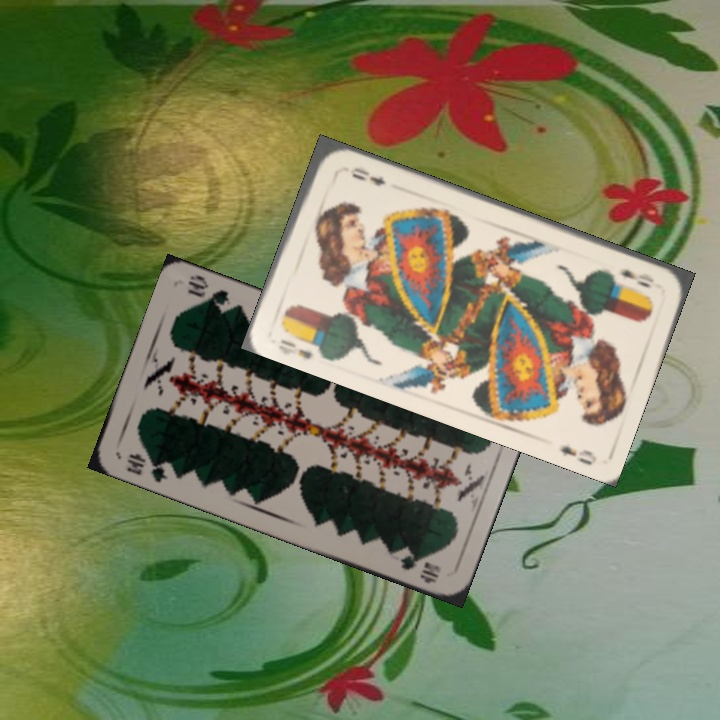EO: (274, 335, 315, 362), (616, 265, 657, 291)
G10: (123, 449, 170, 486)
